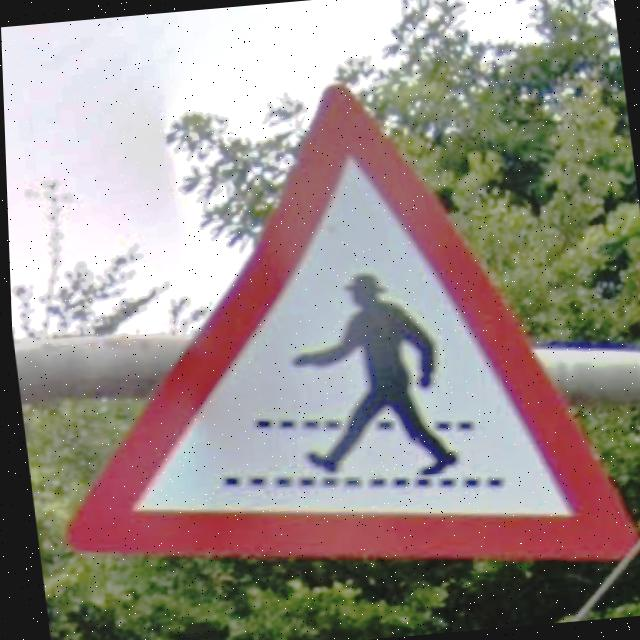pedestriancross: (61, 85, 635, 562)
